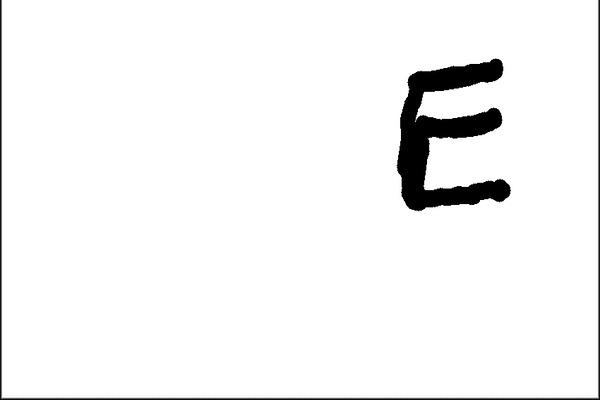E: (392, 54, 517, 213)
